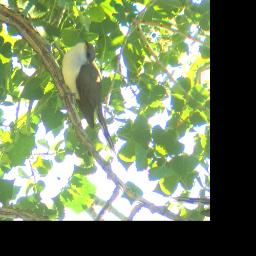Cuckoo: (36, 33, 160, 158)
